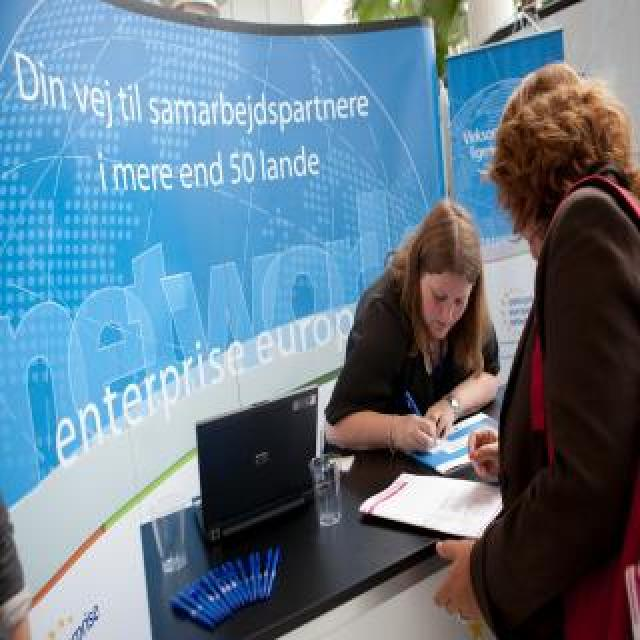laptop_computer: (185, 347, 327, 525)
